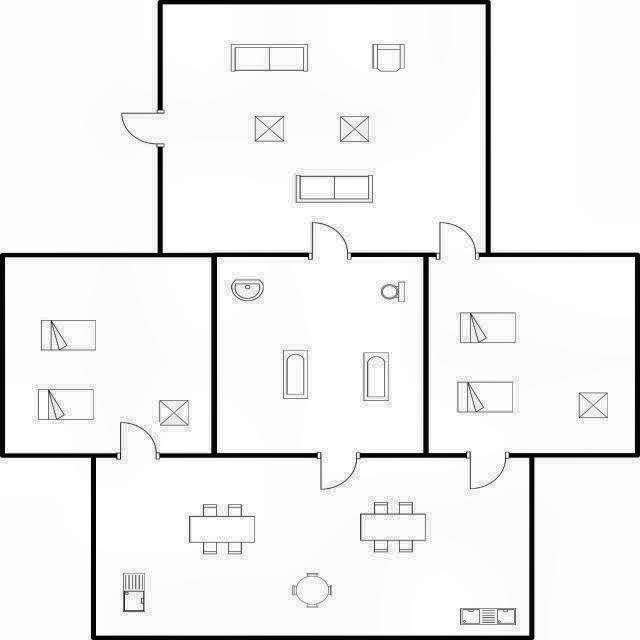room: (163, 4, 486, 253), (96, 458, 529, 636), (5, 257, 211, 453), (217, 257, 423, 453), (429, 257, 635, 453)
